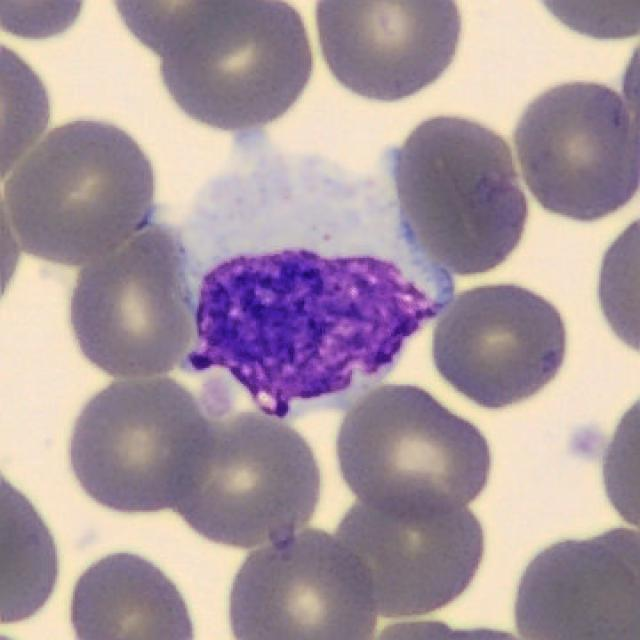Linfocito atipico: (180, 128, 455, 420)
